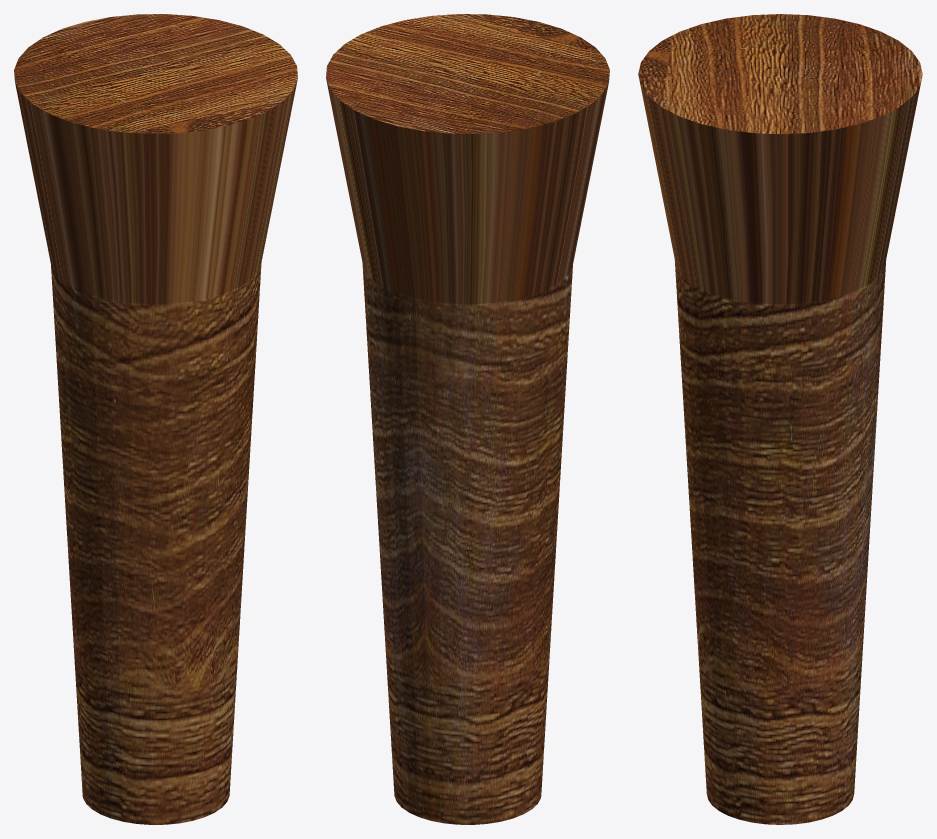
The model's file is volcano_torch.fbx.
The picture shows the model from 3 angles, left to right: view 1: azimuth 30°, elevation 25°; view 2: azimuth 150°, elevation 25°; view 3: azimuth 270°, elevation 25°; orthographic projection.
Visible parts, largest first — view 1: torch; view 2: torch; view 3: torch.
Boxes of the visible parts, <box> form: torch: <box>14,14,297,824</box>; torch: <box>326,14,609,824</box>; torch: <box>638,14,922,824</box>.
Size of the model in its own units: 19.3 by 53.87 by 19.3.
